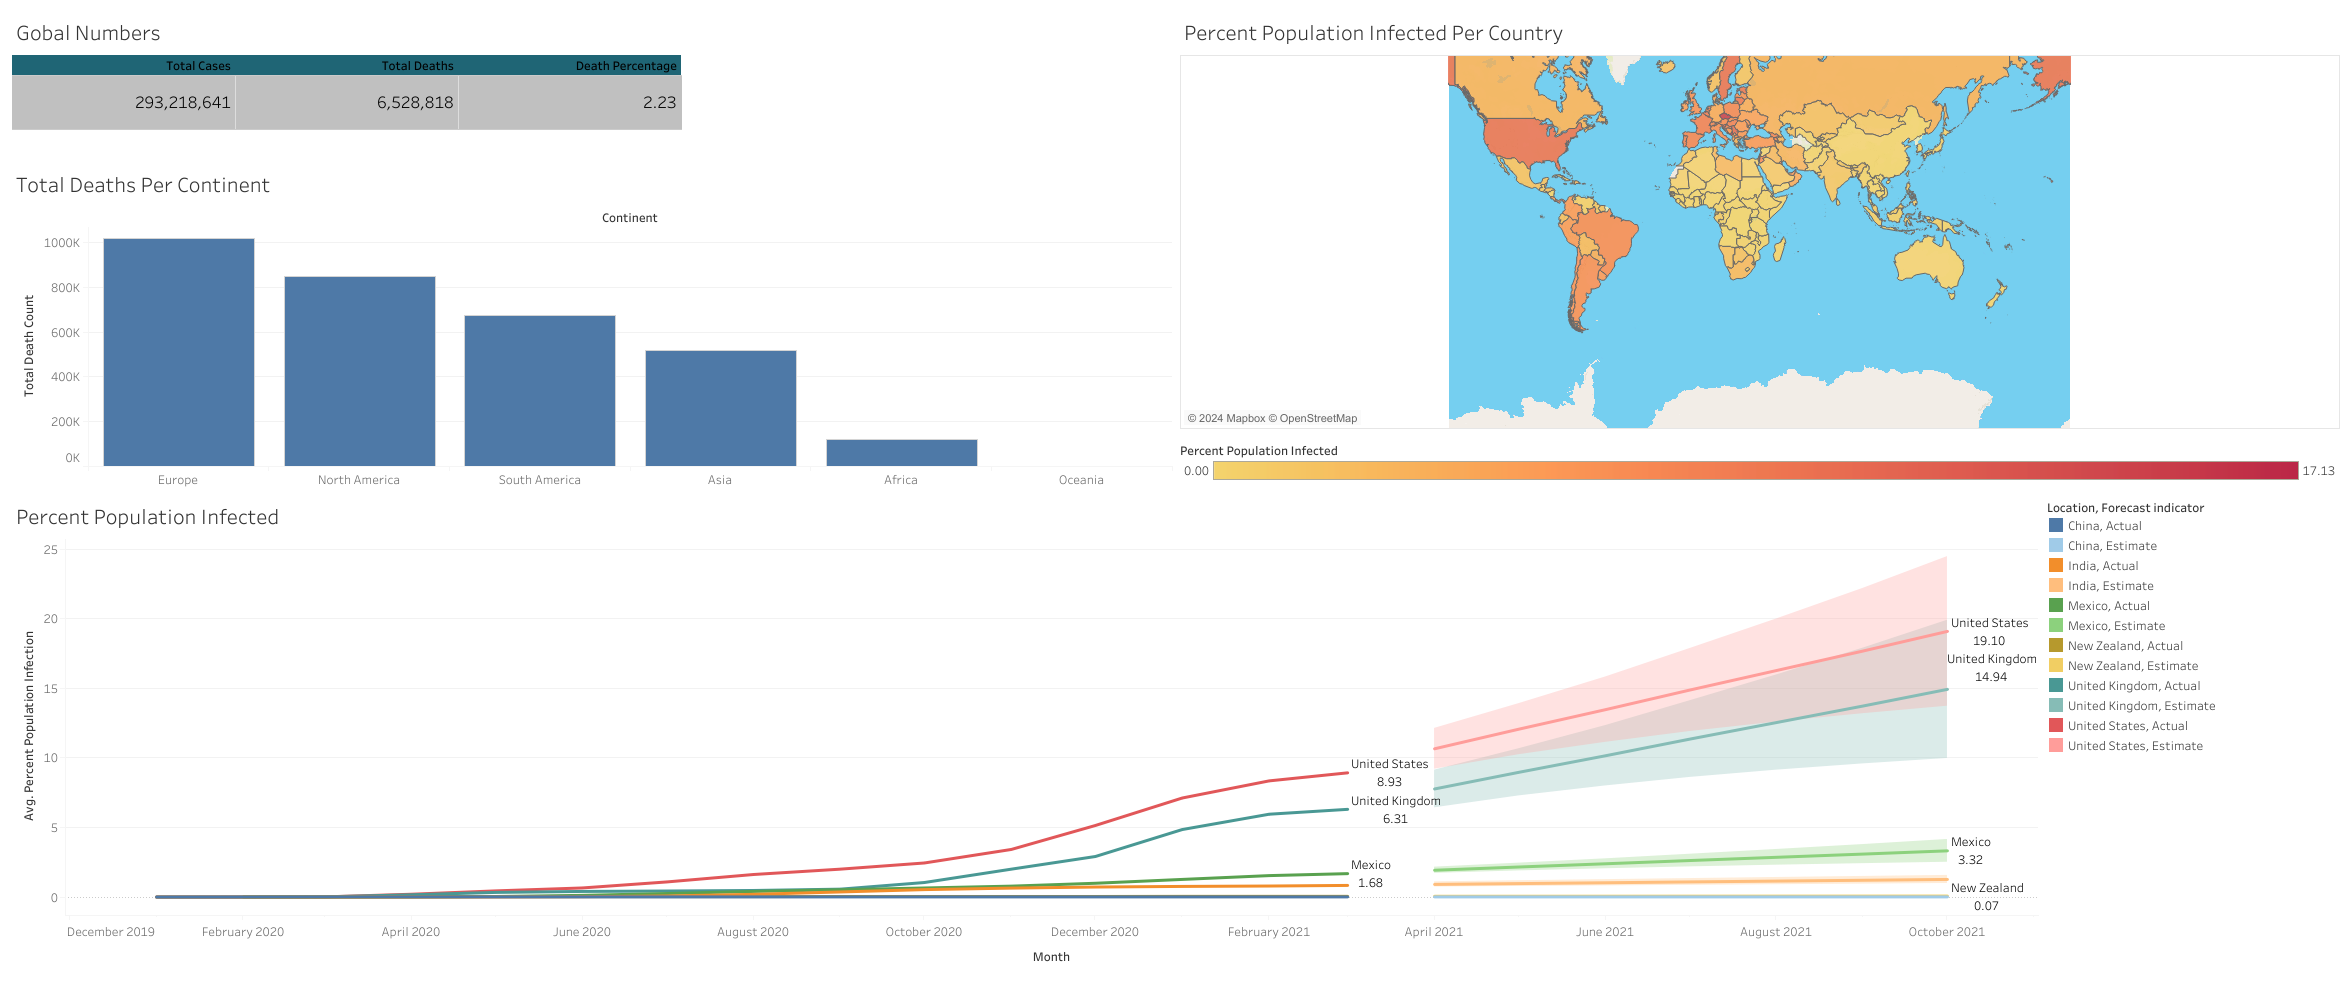

The dashboard page shown, as its layout file describes it:
{"tool":"tableau","page":{"name":"Dashboard 1","canvas":[1000,1000],"units":"permille","ordinal":0},"visuals":[{"type":"worksheet","title":"Sheet 1","mark":"Automatic","box":[3.4,8.8,496.6,146.7]},{"type":"worksheet","title":"Sheet 3","mark":"Automatic","box":[500,8.8,496.6,431.7]},{"type":"worksheet","title":"Sheet 2","mark":"Automatic","rows":["TotalDeathCount"],"cols":["location"],"box":[3.4,155.5,496.6,344.5]},{"type":"legend","title":"Sheet 3","param":"[federated.1064yag01xw5j41abhsmy0atoma8].[sum:PercentPopulationInfected:qk]","box":[500,440.5,496.6,59.5]},{"type":"worksheet","title":"Sheet 4","mark":"Automatic","rows":["PercentPopulationInfection"],"cols":["date"],"box":[3.4,500,864.8,491.2]},{"type":"legend","title":"Sheet 4","param":"[federated.1k9c9tn194b4ns116qb9u1fxowwg].[none:Location:nk]\n[federated.1k9c9tn19","box":[868.1,500,128.5,491.2]}]}

Visuals, with their boxes on the dashboard's canvas, which has no fixed pixel size, in thousandths of its width and height (x1, y1, x2, y2). These are canvas units, not pixel positions in the 2351x983 screenshot, which may show the page scaled, cropped or inside an application window:
"Sheet 1" worksheet: crop(3, 9, 500, 156)
"Sheet 3" worksheet: crop(500, 9, 997, 440)
"Sheet 2" worksheet: crop(3, 156, 500, 500)
"Sheet 3" legend: crop(500, 440, 997, 500)
"Sheet 4" worksheet: crop(3, 500, 868, 991)
"Sheet 4" legend: crop(868, 500, 997, 991)
